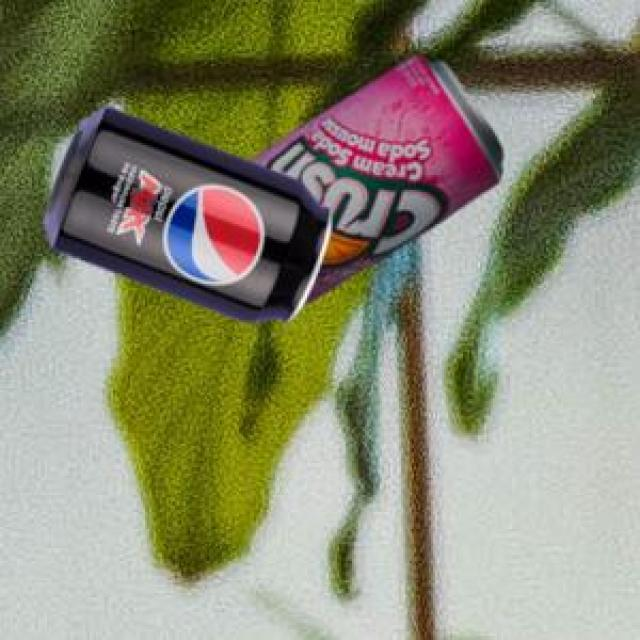logam: (246, 52, 500, 300), (42, 103, 327, 319)
